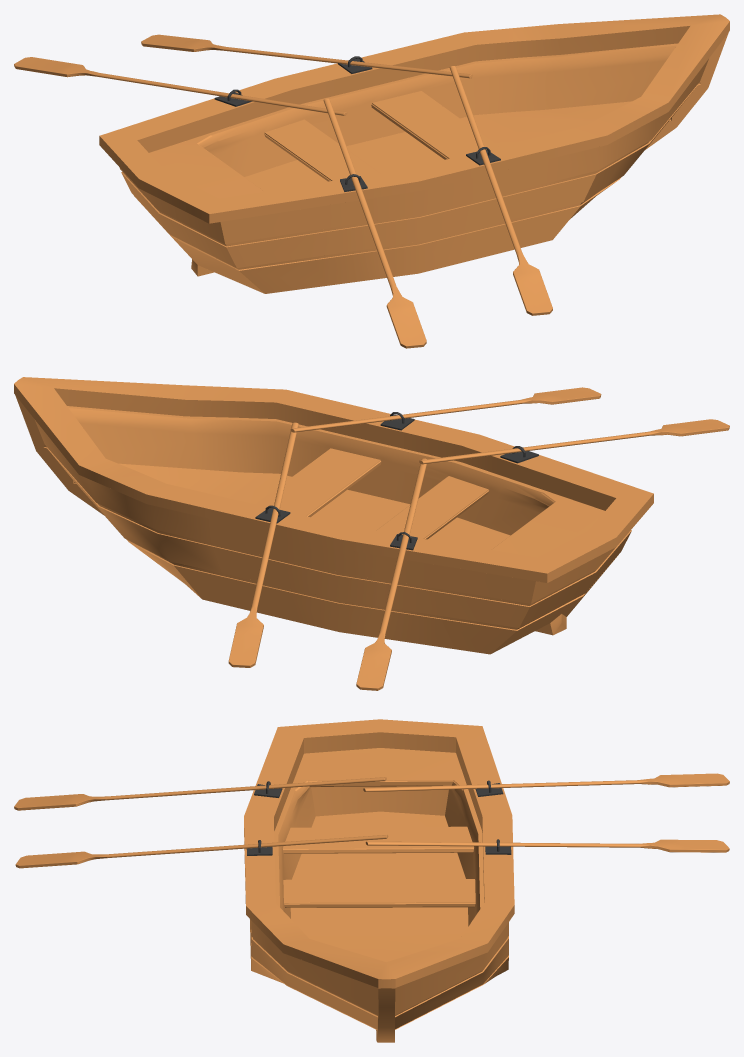
3 renders of one model, top to bottom at view 1: azimuth 30°, elevation 25°; view 2: azimuth 150°, elevation 25°; view 3: azimuth 270°, elevation 25°, orthographic. The views are drawn at different scales.
Parts seen in each view (by area): view 1: boat, paddle3, paddle1, paddle4, paddle2; view 2: boat, paddle2, paddle4, paddle1, paddle3; view 3: boat, paddle3, paddle1, paddle2, paddle4.
Part boxes in pixels (box(x1,y1,x2,y2)): boat: box(99, 14, 729, 293); paddle3: box(323, 98, 426, 348); paddle1: box(449, 66, 552, 315); paddle4: box(14, 57, 347, 115); paddle2: box(141, 34, 473, 78); boat: box(14, 377, 653, 654); paddle2: box(228, 422, 298, 667); paddle4: box(356, 458, 426, 690); paddle1: box(290, 387, 601, 432); paddle3: box(419, 419, 729, 464); boat: box(244, 719, 514, 1042); paddle3: box(14, 777, 386, 810); paddle1: box(15, 835, 388, 868); paddle2: box(365, 839, 729, 852); paddle4: box(363, 773, 729, 791).
Size of the model in its own units: 8.05 by 1.83 by 8.9.
